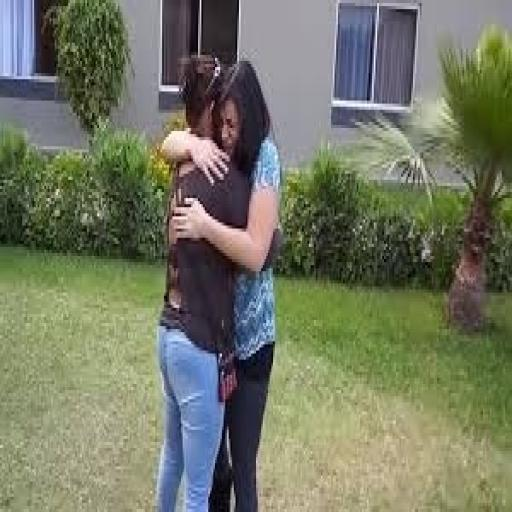hugging: (154, 52, 285, 509)
